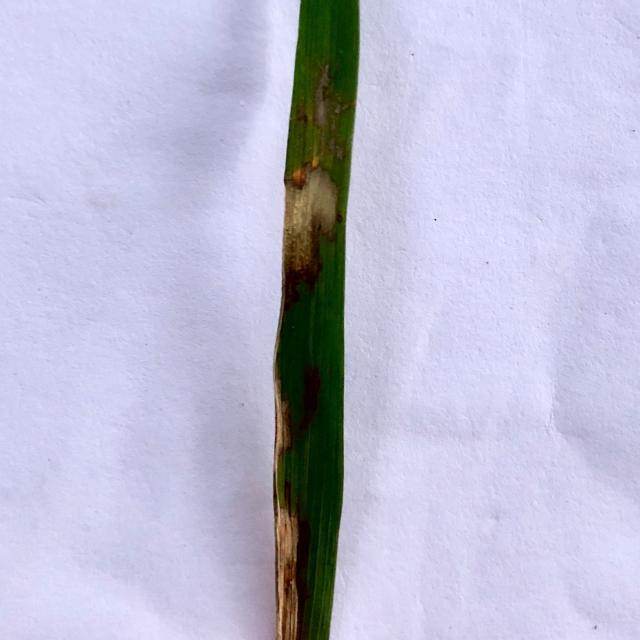Leaf Blight: (283, 158, 342, 310), (273, 363, 300, 640), (308, 64, 354, 167)
